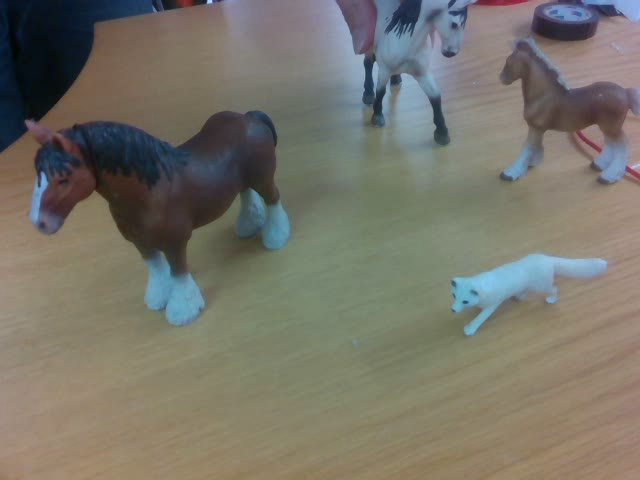toy: (24, 111, 292, 326), (496, 36, 640, 185), (449, 254, 609, 336)
